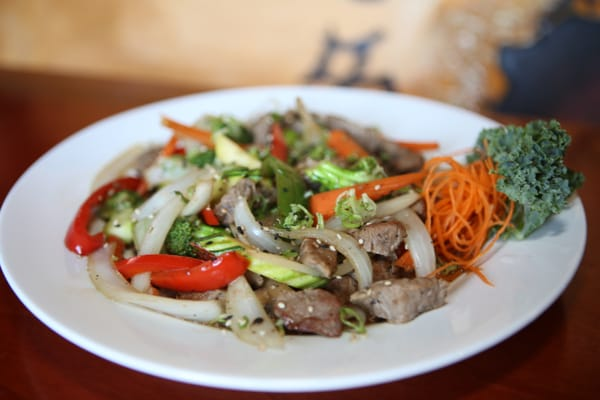curry: (480, 117, 585, 241)
